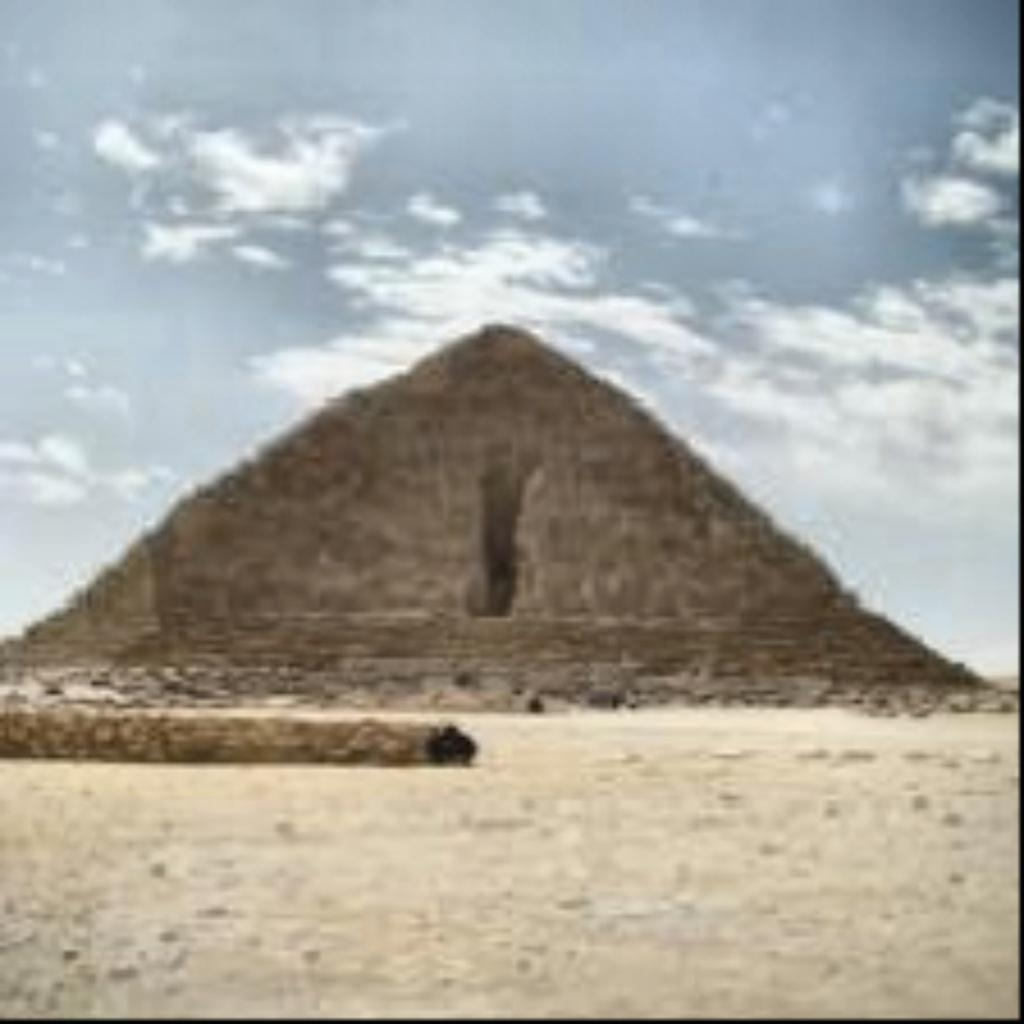Great Pyramids of Giza: (0, 316, 1010, 714)
